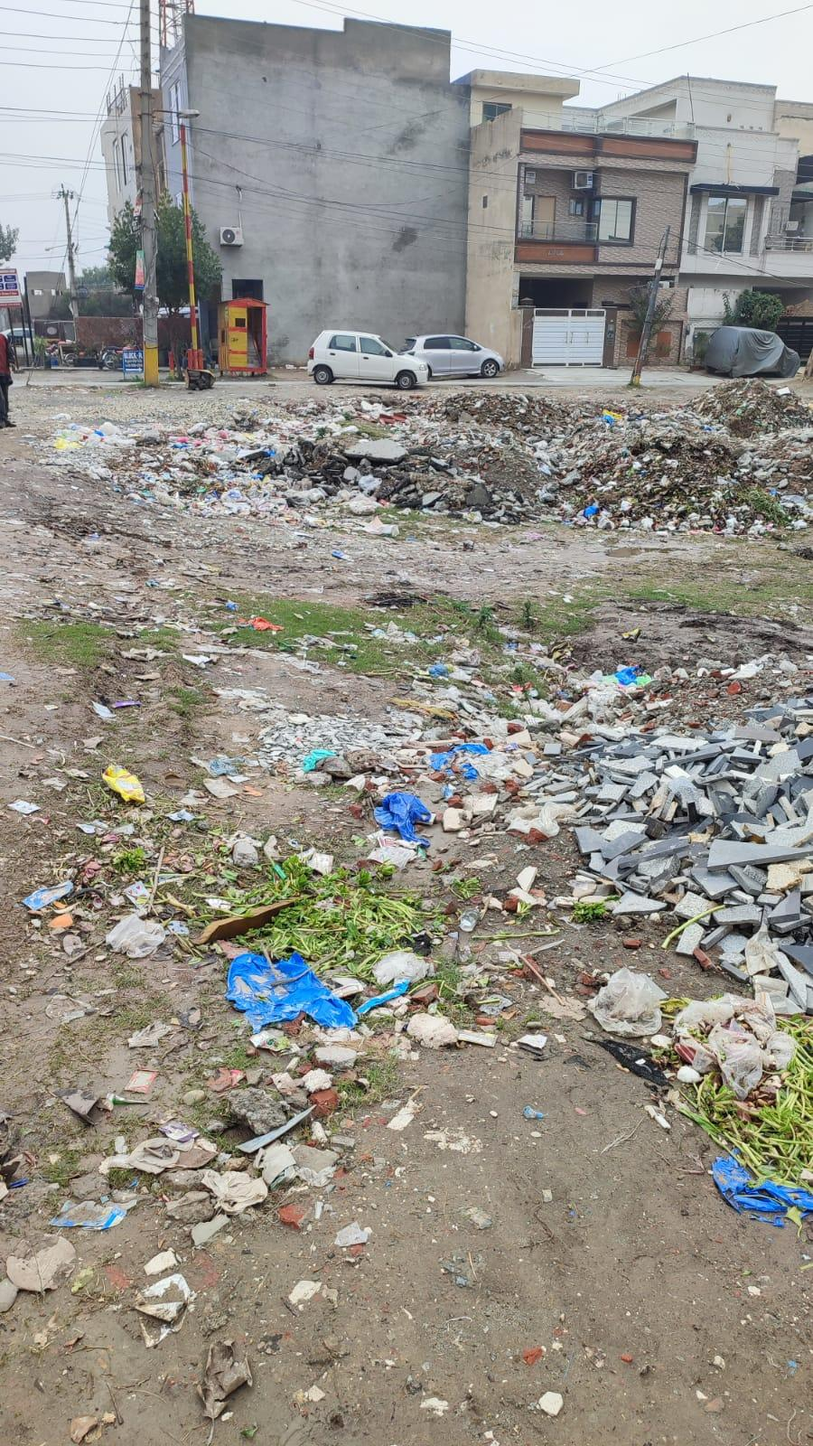garbage: (257, 612, 813, 1194), (166, 395, 813, 545)
